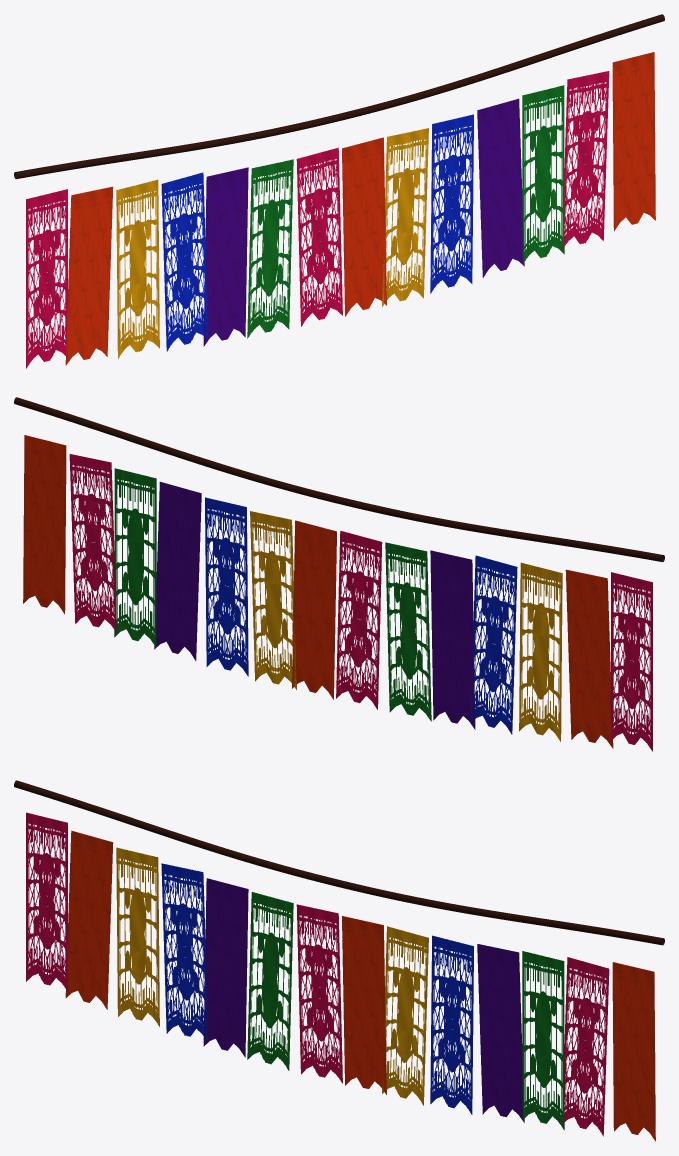
File: papel_picado.obj
The picture shows the model from 3 angles, top to bottom: view 1: azimuth 30°, elevation 25°; view 2: azimuth 150°, elevation 25°; view 3: azimuth 330°, elevation 25°; orthographic projection.
Parts seen in each view (by area): view 1: papel_picado_runtime_export; view 2: papel_picado_runtime_export; view 3: papel_picado_runtime_export.
Boxes of the visible parts, <box> form: papel_picado_runtime_export: <box>14,14,664,368</box>; papel_picado_runtime_export: <box>14,397,664,751</box>; papel_picado_runtime_export: <box>14,780,664,1141</box>.
Bounding box in the file's own units: 3.1 × 1.03 × 0.03.
